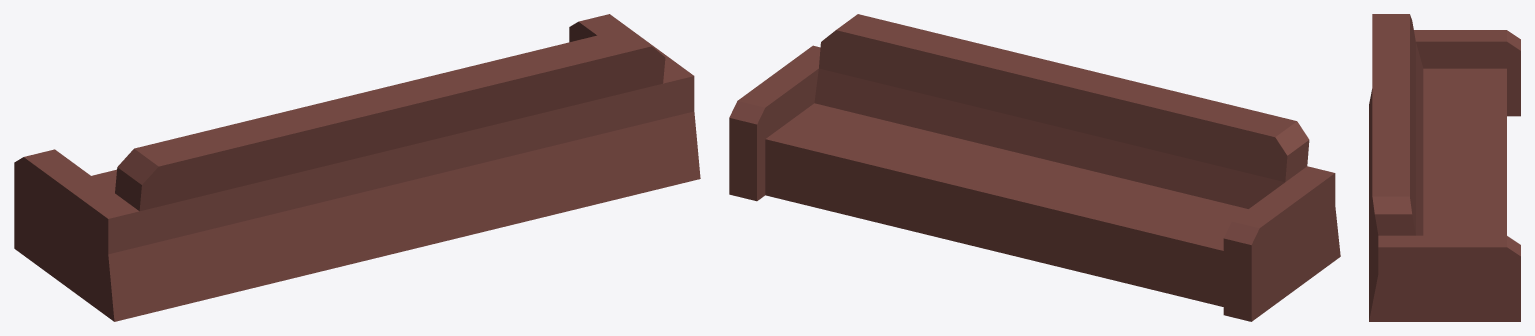
The model's file is Sofa03.fbx.
3 views of the same model, side by side, from view 1: azimuth 30°, elevation 25°; view 2: azimuth 150°, elevation 25°; view 3: azimuth 270°, elevation 25° (orthographic). The views are drawn at different scales.
Parts seen in each view (by area): view 1: Sofa3; view 2: Sofa3; view 3: Sofa3.
Part boxes in pixels (bbox=[...]): Sofa3: bbox=[14, 14, 700, 321]; Sofa3: bbox=[729, 14, 1340, 321]; Sofa3: bbox=[1369, 14, 1520, 321].
Bounding box in the file's own units: 5.72 × 1.69 × 1.33.
